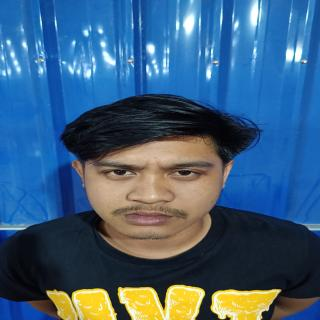Marah: (75, 128, 234, 246)
